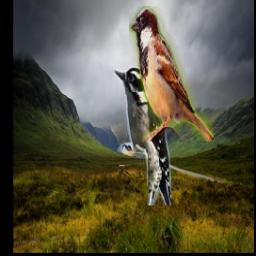Sparrow: (129, 7, 214, 142)
Woodpecker: (113, 67, 171, 206)
